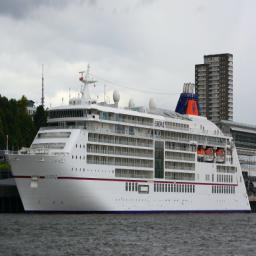cruises: (6, 63, 256, 222)
